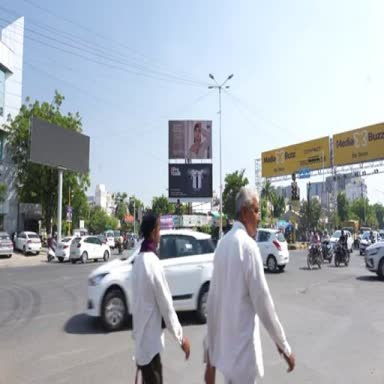Car: (158, 230, 214, 322), (256, 229, 289, 272), (70, 236, 110, 263), (365, 242, 383, 278), (14, 232, 41, 254), (56, 237, 74, 262), (0, 232, 13, 258), (360, 231, 371, 256), (344, 231, 353, 253), (105, 231, 115, 249), (96, 234, 107, 244), (379, 230, 383, 241)
